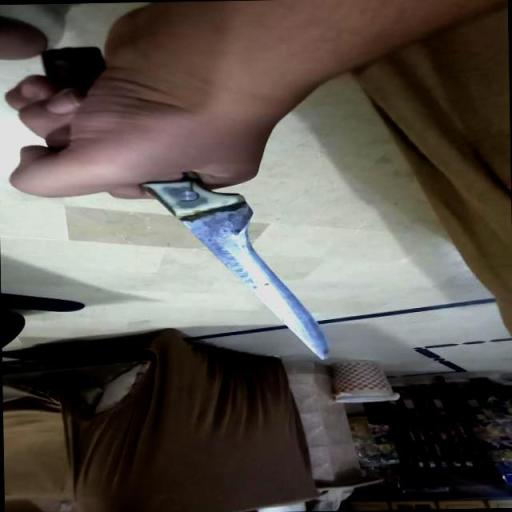knife: (42, 42, 332, 364)
